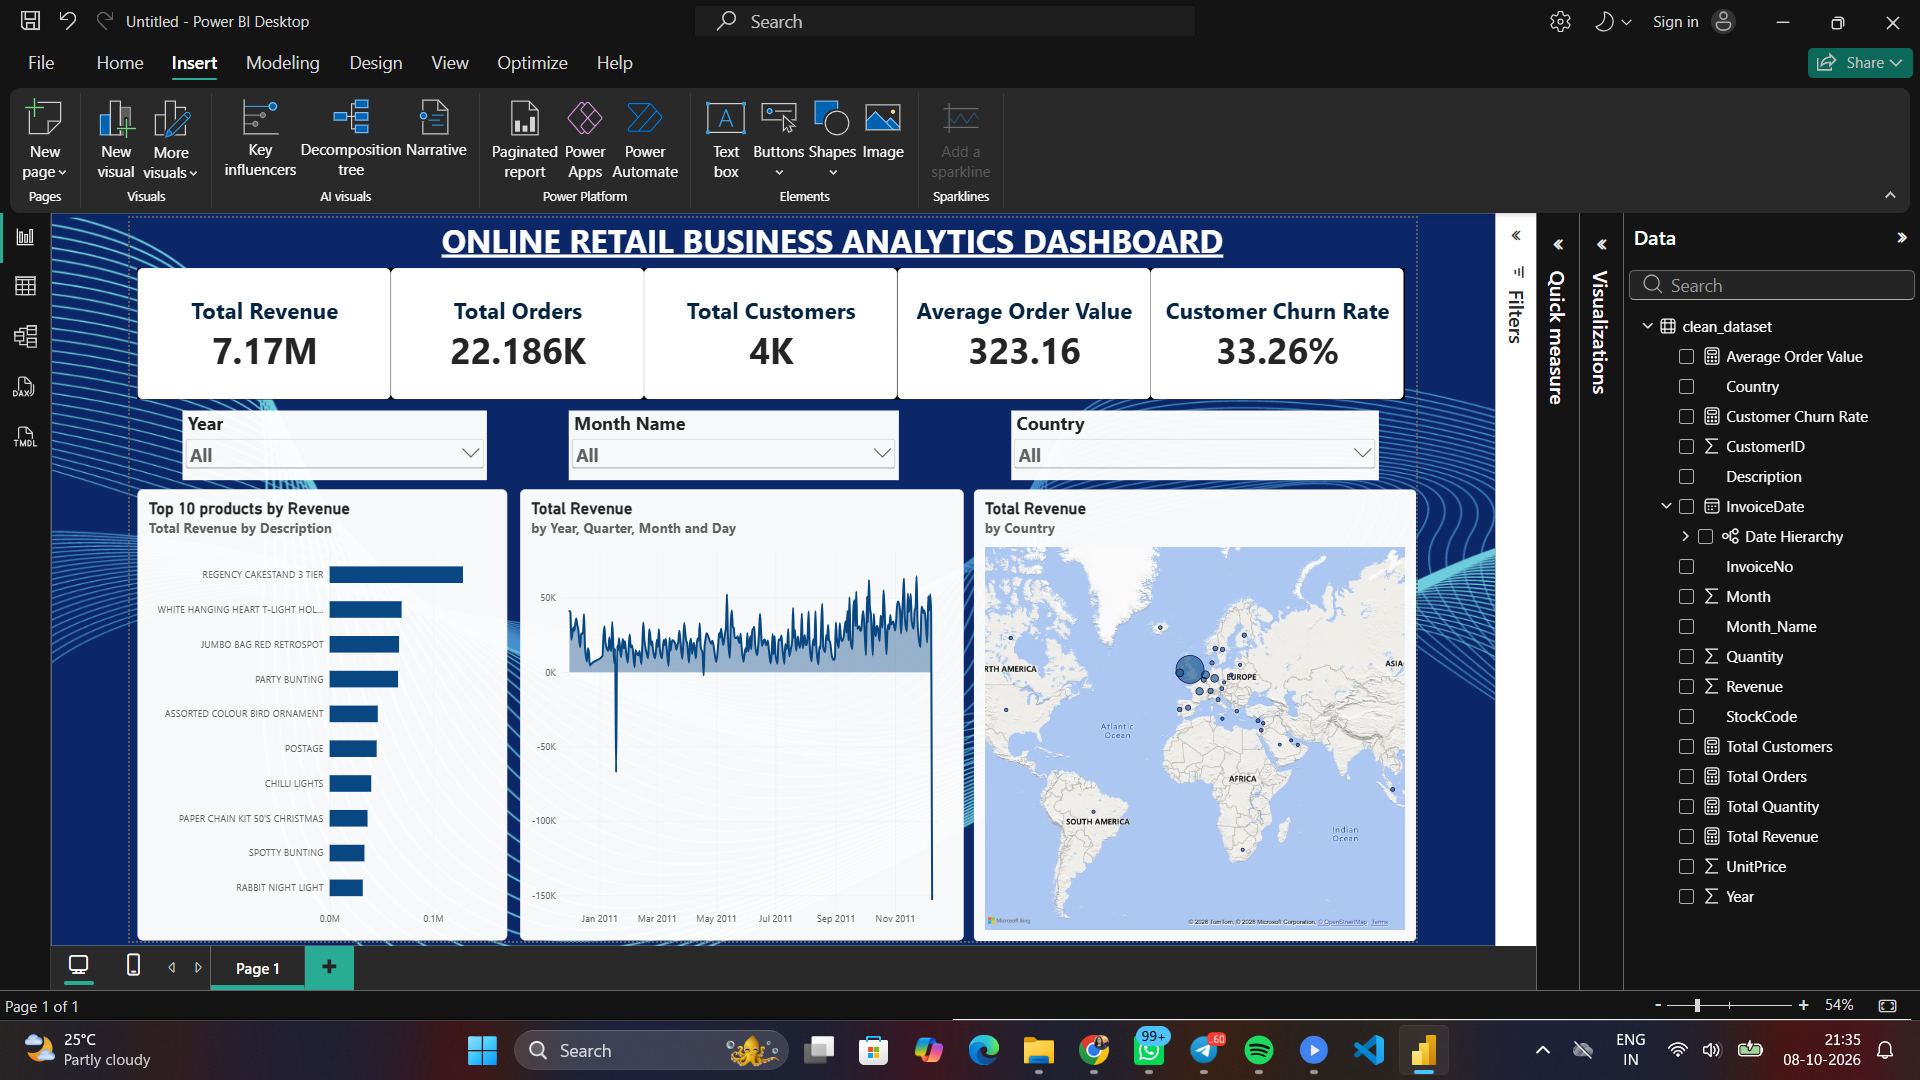

The page's visual inventory and layout, read from the dashboard file:
{"tool":"powerbi","page":{"name":"Page 1","canvas":[1920,1080],"ordinal":0},"visuals":[{"type":"cardVisual","fields":{"Data":["clean_dataset.Total Revenue","clean_dataset.Total Orders","clean_dataset.Total Customers","clean_dataset.Average Order Value","clean_dataset.Customer Churn Rate"]},"box":[12,74.1,1892,196.2],"z":0},{"type":"stackedAreaChart","fields":{"Category":["clean_dataset.InvoiceDate.Variation.Date Hierarchy.Year","clean_dataset.InvoiceDate.Variation.Date Hierarchy.Quarter","clean_dataset.InvoiceDate.Variation.Date Hierarchy.Month","clean_dataset.InvoiceDate.Variation.Date Hierarchy.Day"],"Y":["clean_dataset.Total Revenue"]},"box":[0,406.8,662.4,673.6],"z":1},{"type":"map","fields":{"Category":["clean_dataset.Country"],"Size":["clean_dataset.Total Revenue"]},"box":[1259.5,404.9,660.5,675.5],"z":2},{"type":"clusteredBarChart","title":"Top 10 products by Revenue","fields":{"Category":["clean_dataset.Description"],"Y":["clean_dataset.Total Revenue"]},"box":[682.9,404.9,552.3,673.6],"z":3},{"type":"slicer","fields":{"Values":["clean_dataset.Year"]},"box":[78.4,287.4,454.5,104.1],"z":4},{"type":"slicer","title":"Month Name","fields":{"Values":["clean_dataset.Month_Name"]},"box":[654.9,287.4,492.5,104.1],"z":5},{"type":"slicer","fields":{"Values":["clean_dataset.Country"]},"box":[1315.5,287.4,548.6,104.1],"z":6},{"type":"textbox","box":[376.4,0,1343.4,74.1],"z":9}]}

Visuals, with their boxes on the page's 1920x1080 design canvas (x1, y1, x2, y2). These are canvas units, not pixel positions in the 1920x1080 screenshot, which may show the page scaled, cropped or inside an application window:
cardVisual - clean_dataset.Total Revenue x clean_dataset.Total Orders: left=12, top=74, right=1904, bottom=270
stackedAreaChart - clean_dataset.InvoiceDate.Variation.Date Hierarchy.Year x clean_dataset.InvoiceDate.Variation.Date Hierarchy.Quarter: left=0, top=407, right=662, bottom=1080
map - clean_dataset.Country x clean_dataset.Total Revenue: left=1260, top=405, right=1920, bottom=1080
"Top 10 products by Revenue" clusteredBarChart: left=683, top=405, right=1235, bottom=1078
slicer - clean_dataset.Year: left=78, top=287, right=533, bottom=392
"Month Name" slicer: left=655, top=287, right=1147, bottom=392
slicer - clean_dataset.Country: left=1316, top=287, right=1864, bottom=392
textbox: left=376, top=0, right=1720, bottom=74
